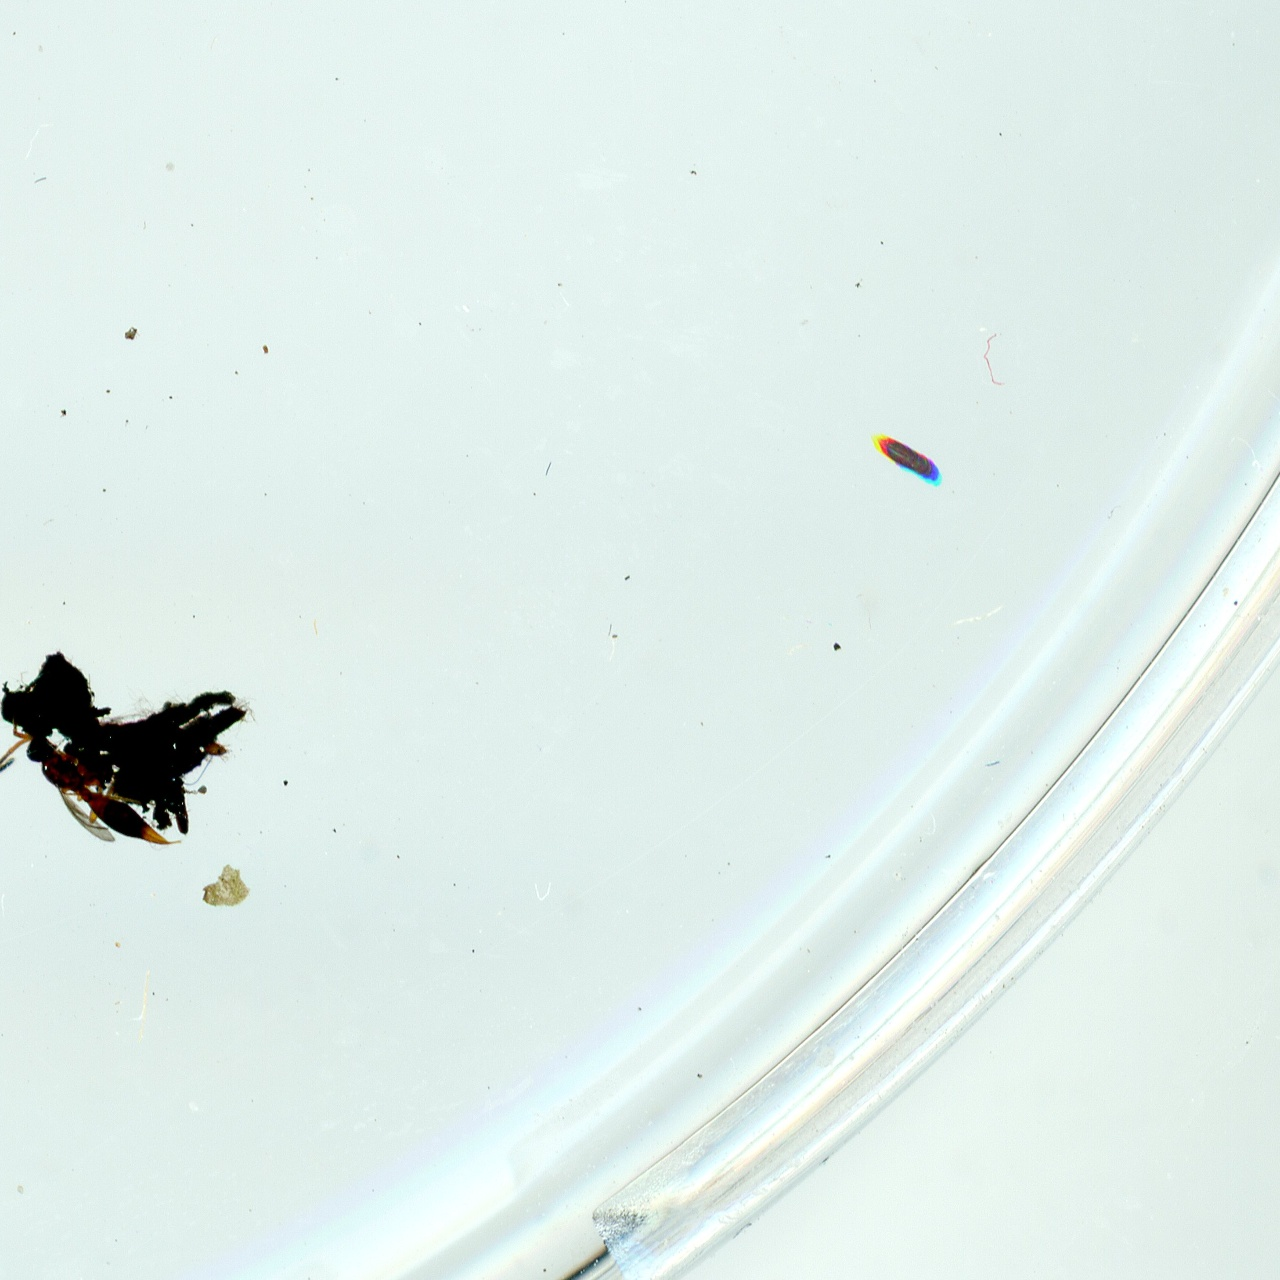arthropod: (0, 711, 196, 893)
